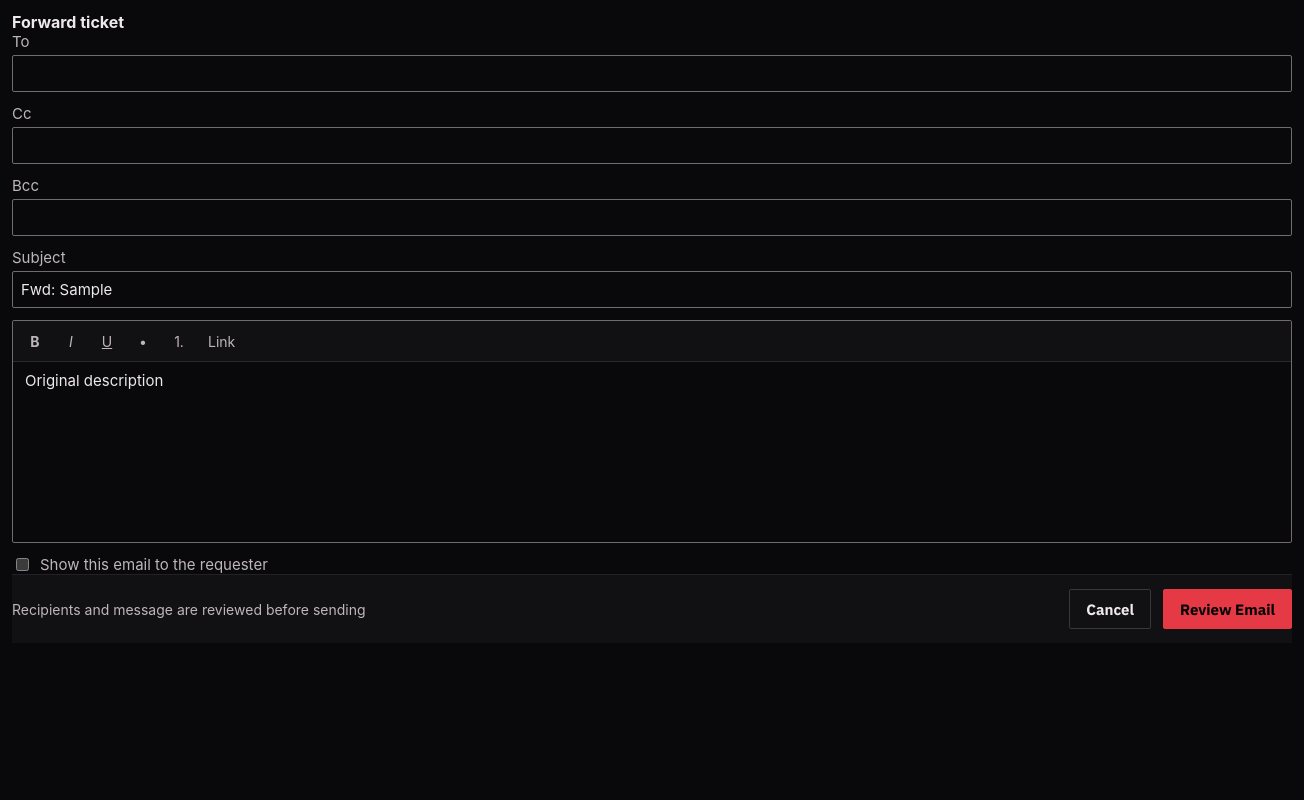
it: opens forwarding with empty recipients and private visibility, then requires email review
Expected: the field named "Message" reads "Original description", [25,371,163,390]
In the dropdown labelled "To": (652, 74) [12,55,1292,92], type "recipient@example.test"
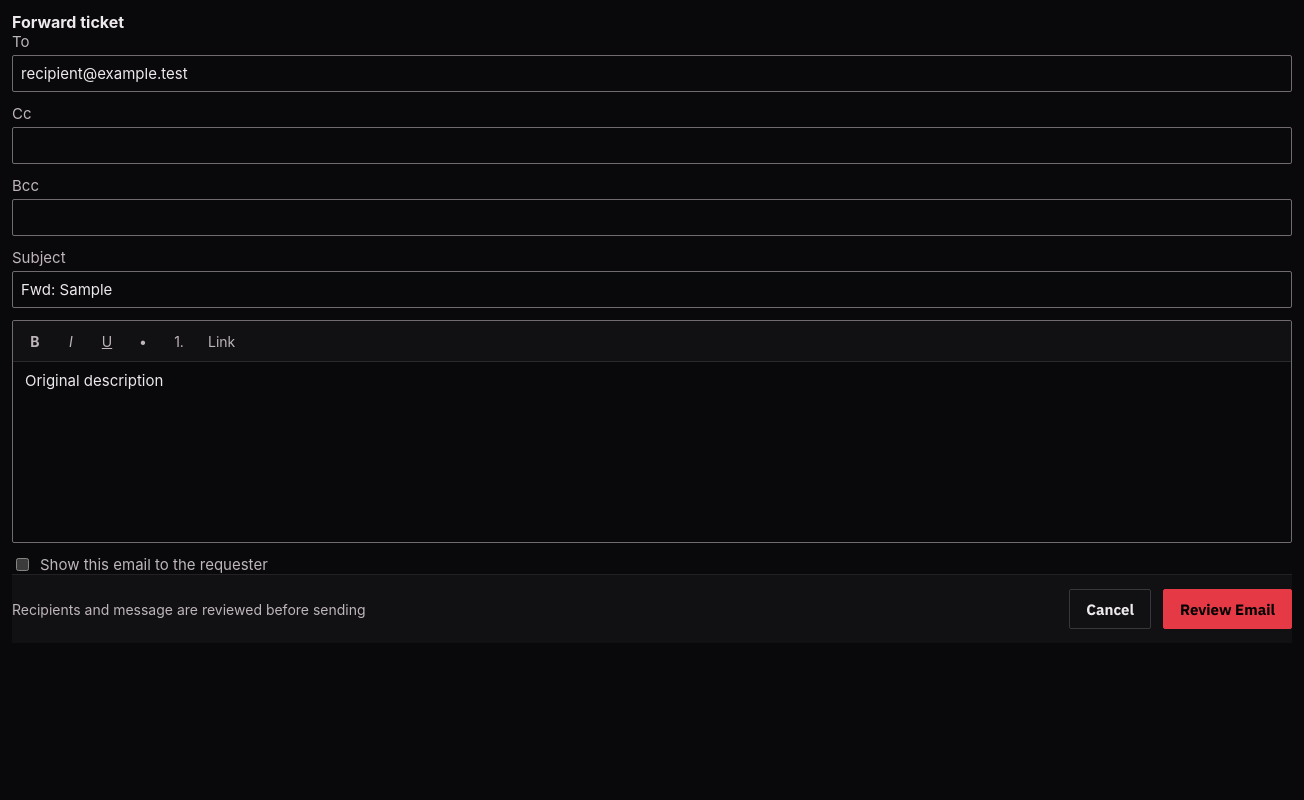
Click the button "Review Email": (1228, 609) [1163,589,1292,629]
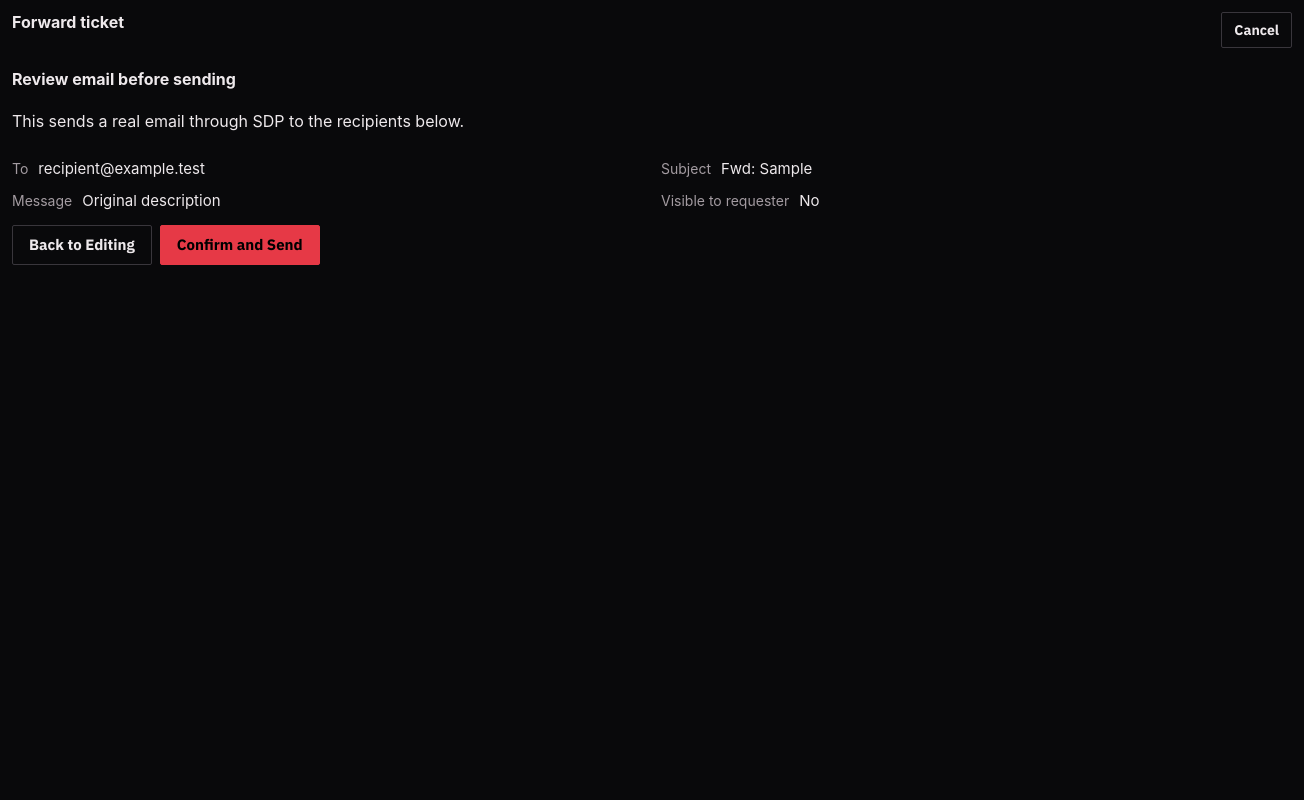
Expected: the button "Confirm and Send" is shown, [160,224,320,264]
